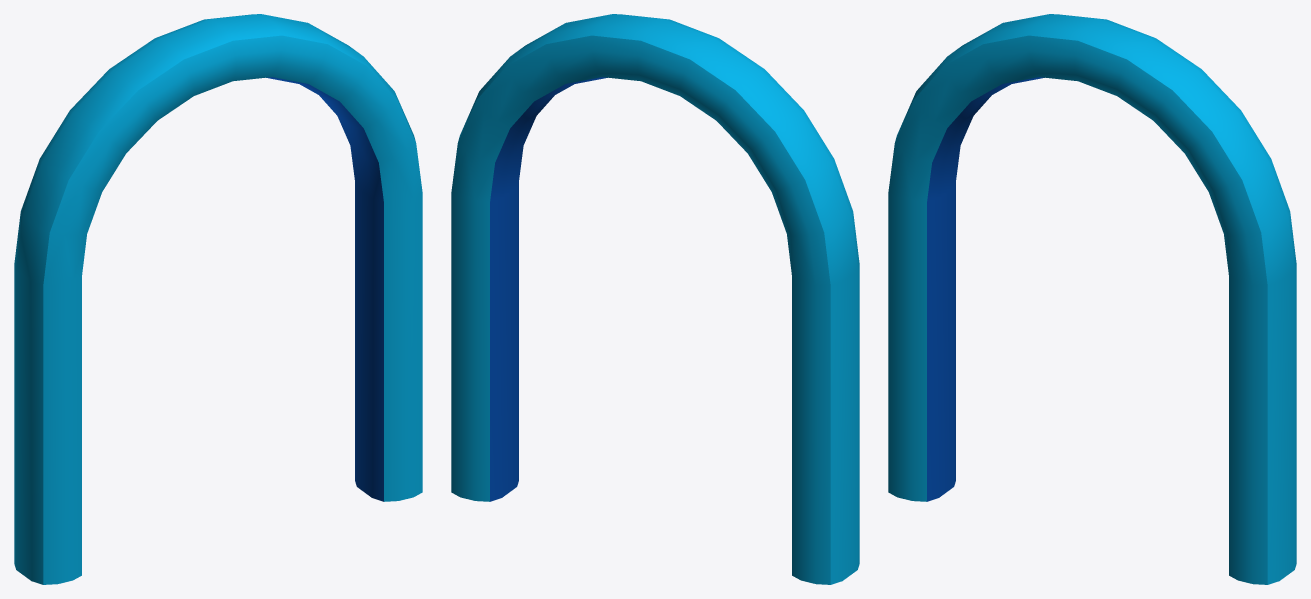
Rendered from Tunnel_notGate.fbx.
3 renders of one model, left to right at view 1: azimuth 30°, elevation 25°; view 2: azimuth 150°, elevation 25°; view 3: azimuth 330°, elevation 25°, orthographic.
Visible parts, largest first — view 1: pCylinder2; view 2: pCylinder2; view 3: pCylinder2.
Part boxes in pixels (x1=…): pCylinder2: x1=14, y1=14, x2=422, y2=584; pCylinder2: x1=451, y1=14, x2=859, y2=584; pCylinder2: x1=888, y1=14, x2=1296, y2=584.
Bounding box in the file's own units: 2 × 2.47 × 0.309.
